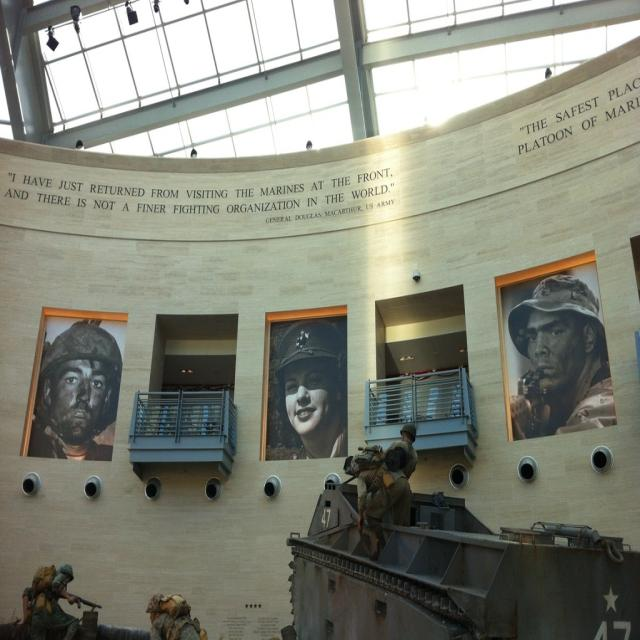tank: (284, 452, 639, 639)
